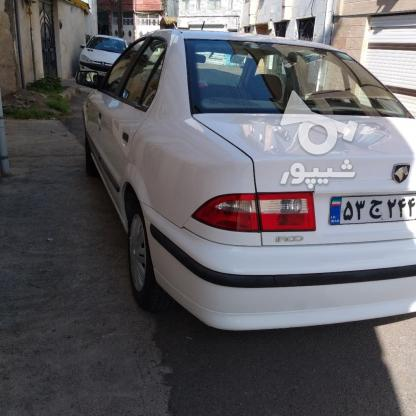car: (321, 196, 414, 225)
